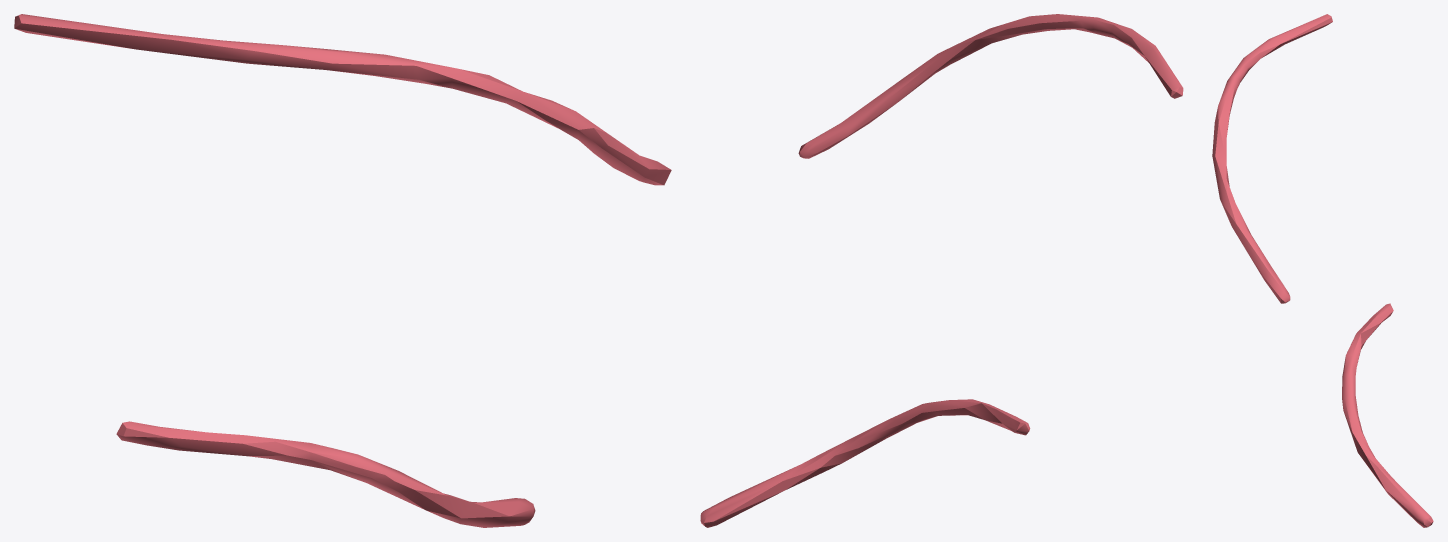
File: fma51355_fj4702.glb
3 renders of one model, left to right at view 1: azimuth 30°, elevation 25°; view 2: azimuth 150°, elevation 25°; view 3: azimuth 270°, elevation 25°, orthographic. The views are drawn at different scales.
Visible parts, largest first — view 1: FMA51355_FJ4702; view 2: FMA51355_FJ4702; view 3: FMA51355_FJ4702.
Part boxes in pixels (left/top/right/bottom): FMA51355_FJ4702: left=14, top=14, right=671, bottom=527; FMA51355_FJ4702: left=700, top=14, right=1183, bottom=527; FMA51355_FJ4702: left=1212, top=14, right=1433, bottom=527.
Bounding box in the file's own units: 0.0171 × 0.0192 × 0.0105.
